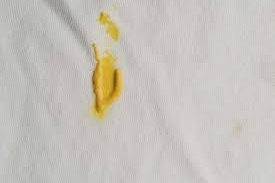mustard: (88, 45, 125, 116), (94, 10, 124, 40)
